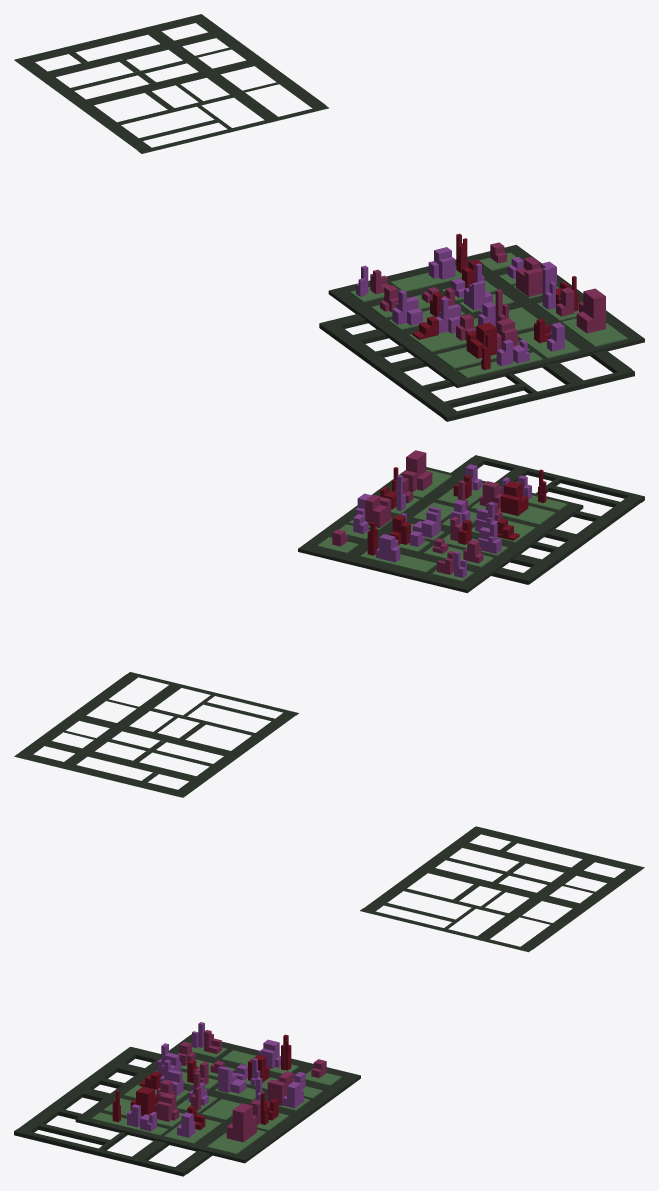
Rendered from CITYPROTOTYPE.fbx.
The picture shows the model from 3 angles, top to bottom: view 1: azimuth 30°, elevation 25°; view 2: azimuth 150°, elevation 25°; view 3: azimuth 330°, elevation 25°; orthographic projection. The views are drawn at different scales.
Visible parts, largest first — view 1: Plane.008, road.002, Plane.001, Plane.029, Plane.021, Plane.031, Plane.033, Plane.022, Plane.020, Cube.027, Cube.001, Plane.037 (+5 smaller); view 2: Plane.008, road.002, Plane.001, Plane.029, Plane.031, Plane.021, Plane.033, Plane.022, Plane.020, Cube.027, Cube.007, Cube.001 (+4 smaller); view 3: Plane.008, road.002, Plane.001, Plane.029, Plane.031, Plane.033, Plane.021, Plane.022, Plane.020, Cube.027, Plane.037, Cube.013 (+3 smaller).
Boxes of the visible parts, bbox=[...] form: Plane.008: bbox=[328, 244, 644, 387]; road.002: bbox=[319, 314, 634, 421]; Plane.001: bbox=[350, 252, 627, 378]; Plane.029: bbox=[14, 58, 151, 151]; Plane.021: bbox=[145, 28, 278, 120]; Plane.031: bbox=[194, 14, 325, 108]; Plane.033: bbox=[15, 14, 208, 65]; Plane.022: bbox=[47, 30, 223, 77]; Plane.020: bbox=[86, 58, 260, 105]; Cube.027: bbox=[576, 288, 605, 333]; Cube.001: bbox=[516, 256, 542, 296]; Plane.037: bbox=[138, 105, 329, 153]; Plane.008: bbox=[298, 467, 583, 593]; road.002: bbox=[451, 455, 644, 584]; Plane.001: bbox=[317, 469, 567, 581]; Plane.029: bbox=[172, 712, 295, 797]; Plane.031: bbox=[15, 674, 138, 759]; Plane.021: bbox=[64, 684, 181, 767]; Plane.033: bbox=[14, 751, 188, 797]; Plane.022: bbox=[38, 739, 197, 781]; Plane.020: bbox=[75, 714, 230, 756]; Cube.027: bbox=[402, 450, 432, 492]; Cube.007: bbox=[500, 481, 528, 515]; Cube.001: bbox=[365, 494, 391, 527]; Plane.008: bbox=[75, 1034, 360, 1163]; road.002: bbox=[14, 1047, 212, 1176]; Plane.001: bbox=[91, 1045, 341, 1154]; Plane.029: bbox=[363, 826, 480, 911]; Plane.031: bbox=[520, 865, 641, 949]; Plane.033: bbox=[469, 826, 644, 872]; Plane.021: bbox=[477, 859, 597, 939]; Plane.022: bbox=[461, 842, 620, 884]; Plane.020: bbox=[427, 868, 585, 909]; Cube.027: bbox=[226, 1103, 256, 1142]; Plane.037: bbox=[360, 908, 531, 952]; Cube.013: bbox=[218, 1066, 246, 1093].
Size of the model in its own units: 5030 by 947 by 18130.
